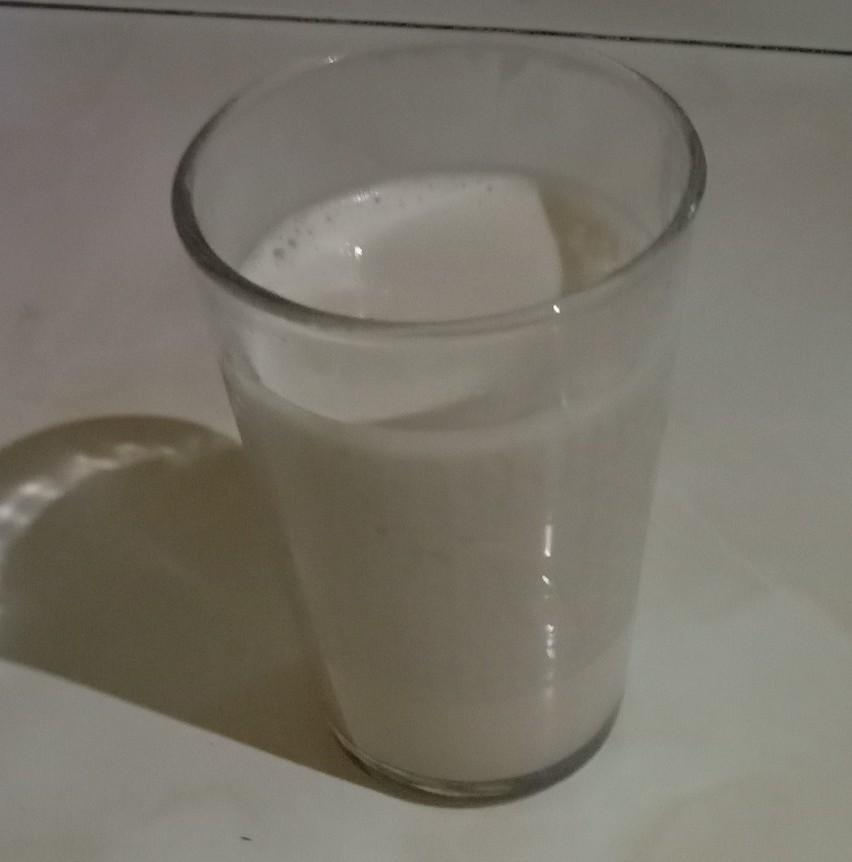produk_susu: (336, 119, 591, 734)
